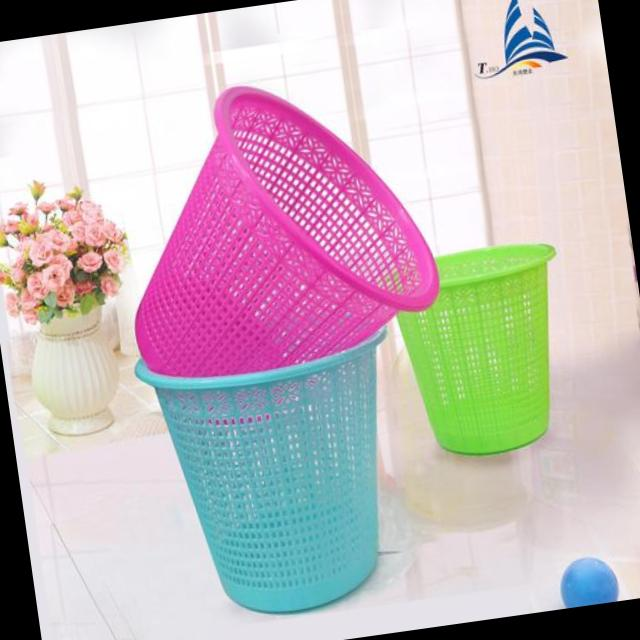dustbin: (96, 54, 452, 393), (130, 317, 433, 636), (389, 235, 586, 468)
